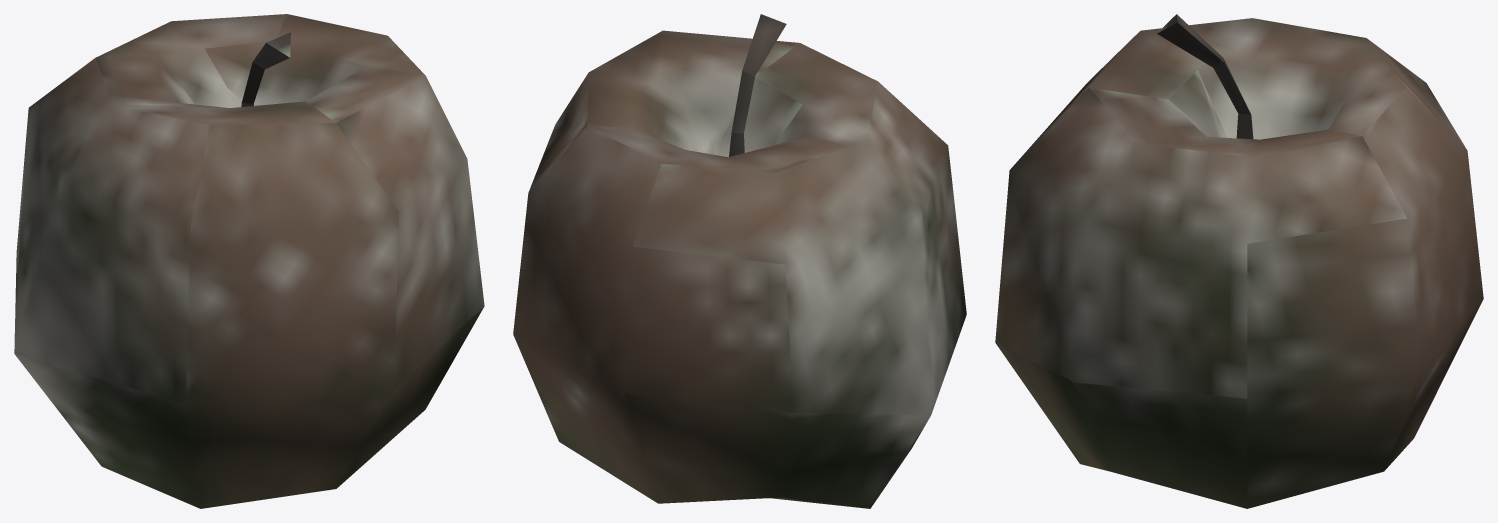
File: apple.obj
3 views of the same model, side by side, from view 1: azimuth 30°, elevation 25°; view 2: azimuth 150°, elevation 25°; view 3: azimuth 270°, elevation 25° (orthographic). The views are drawn at different scales.
Visible parts, largest first — view 1: apple; view 2: apple; view 3: apple.
Boxes of the visible parts, x1=… form: apple: x1=14, y1=14, x2=484, y2=508; apple: x1=513, y1=14, x2=966, y2=508; apple: x1=995, y1=14, x2=1483, y2=508.
Size of the model in its own units: 1.8 by 1.91 by 1.78.
